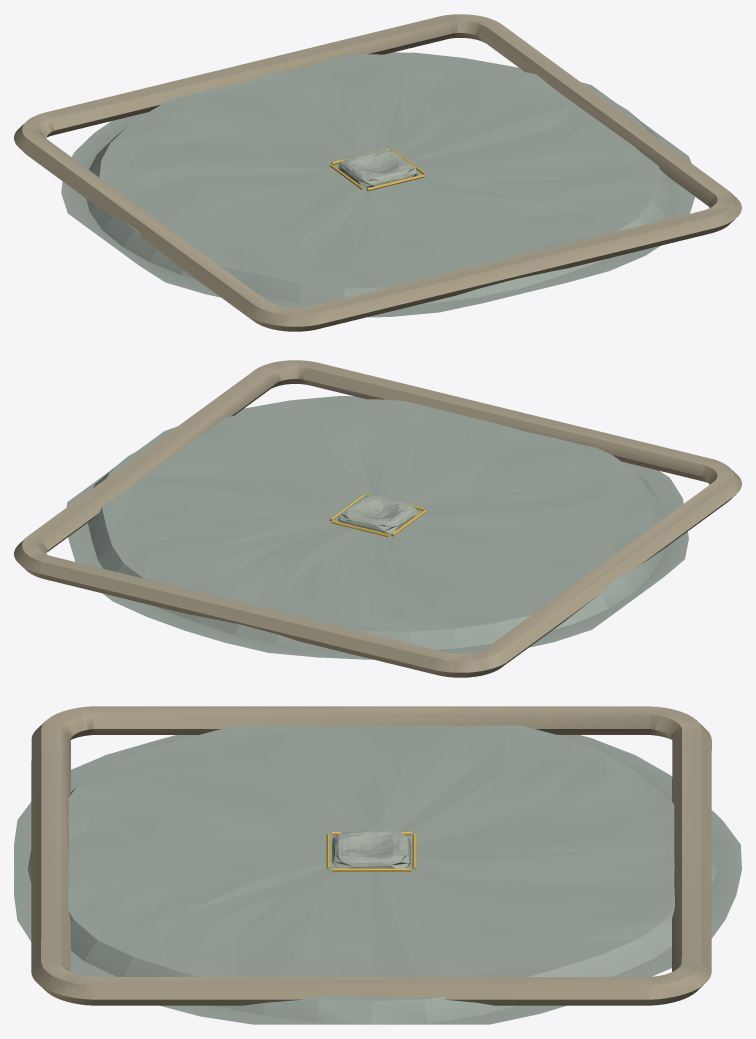
The model's file is coast_board.glb.
3 views of the same model, one above another, from view 1: azimuth 30°, elevation 25°; view 2: azimuth 150°, elevation 25°; view 3: azimuth 270°, elevation 25° (orthographic). The views are drawn at different scales.
Parts seen in each view (by area): view 1: reef_base, board_rim, slab_4, beacon_line; view 2: reef_base, board_rim, slab_4, beacon_line, slab_0; view 3: reef_base, board_rim, beacon_line, slab_4, slab_1, slab_2, slab_5, slab_0.
Boxes of the visible parts, left/top/right/bottom form: reef_base: left=61, top=52, right=694, bottom=317; board_rim: left=14, top=14, right=741, bottom=331; slab_4: left=339, top=157, right=418, bottom=187; beacon_line: left=329, top=148, right=426, bottom=190; reef_base: left=66, top=396, right=688, bottom=659; board_rim: left=14, top=360, right=741, bottom=677; slab_4: left=339, top=496, right=417, bottom=533; beacon_line: left=329, top=494, right=426, bottom=536; slab_0: left=348, top=495, right=409, bottom=533; reef_base: left=14, top=725, right=741, bottom=1024; board_rim: left=31, top=706, right=711, bottom=1005; beacon_line: left=326, top=832, right=416, bottom=871; slab_4: left=332, top=830, right=410, bottom=868; slab_1: left=332, top=831, right=408, bottom=868; slab_2: left=332, top=831, right=410, bottom=868; slab_5: left=332, top=831, right=410, bottom=868; slab_0: left=332, top=831, right=410, bottom=858.
Size of the model in its own units: 8.5 by 0.3312 by 8.45.
